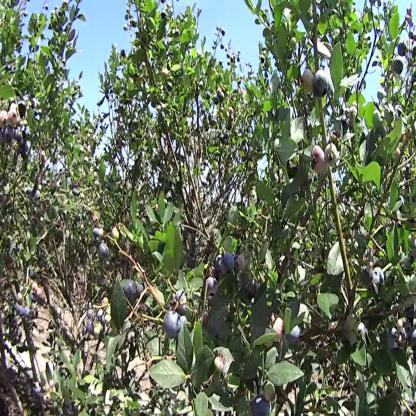intermediate: (313, 143, 325, 176), (272, 316, 283, 342), (214, 354, 226, 375), (238, 255, 246, 274), (10, 112, 18, 127), (1, 112, 8, 128), (112, 226, 119, 240), (35, 287, 41, 296), (32, 284, 38, 292), (50, 381, 55, 388), (47, 395, 52, 402)
mature: (314, 70, 330, 97), (165, 309, 181, 335), (120, 280, 138, 302), (254, 396, 270, 415), (222, 254, 235, 274), (373, 265, 384, 287), (289, 322, 299, 344), (205, 280, 217, 296), (394, 57, 403, 76), (100, 244, 110, 261), (136, 283, 149, 296), (400, 40, 407, 58), (4, 129, 11, 143), (10, 129, 18, 141), (215, 254, 223, 266), (22, 142, 28, 155), (96, 310, 103, 321), (87, 308, 94, 318), (87, 321, 93, 332), (17, 132, 23, 142), (215, 94, 219, 104), (94, 228, 98, 238), (219, 95, 224, 102)
young: (325, 145, 337, 164), (304, 70, 314, 91), (386, 104, 396, 123), (265, 384, 275, 402), (94, 326, 101, 340), (349, 334, 356, 348), (358, 324, 364, 337), (106, 316, 112, 326), (103, 298, 109, 307), (17, 293, 22, 303), (99, 227, 103, 238), (399, 320, 403, 327)
